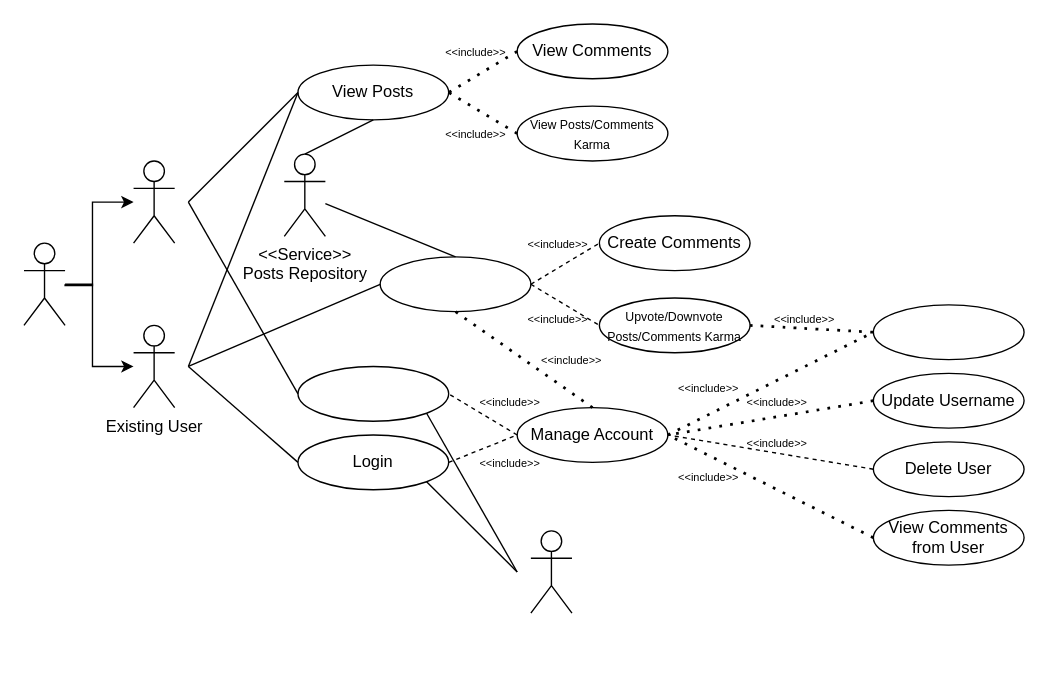
Some shapes in this 1048 by 686 pixel diagram are drawn without their labels. The shapes that lost their labels are listed below. From the top down, each one's centre as x and y in pixels, then its label:
point (153, 201): New User
point (44, 283): User
point (455, 284): Create Posts
point (948, 331): View/Update User Karma
point (373, 393): Create Account
point (551, 571): <<Service>> Auth and Identity
